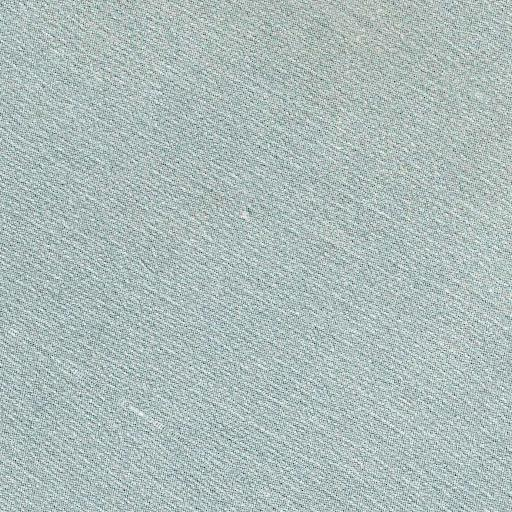knot: (233, 195, 257, 226)
